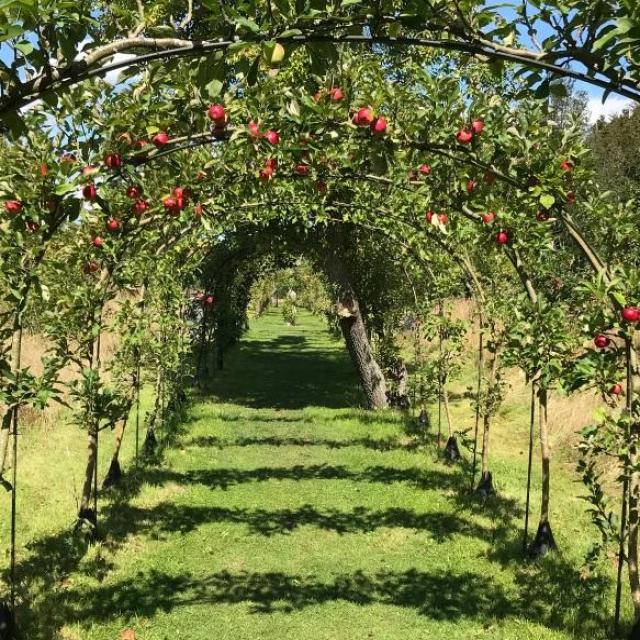row: (40, 313, 592, 640)
